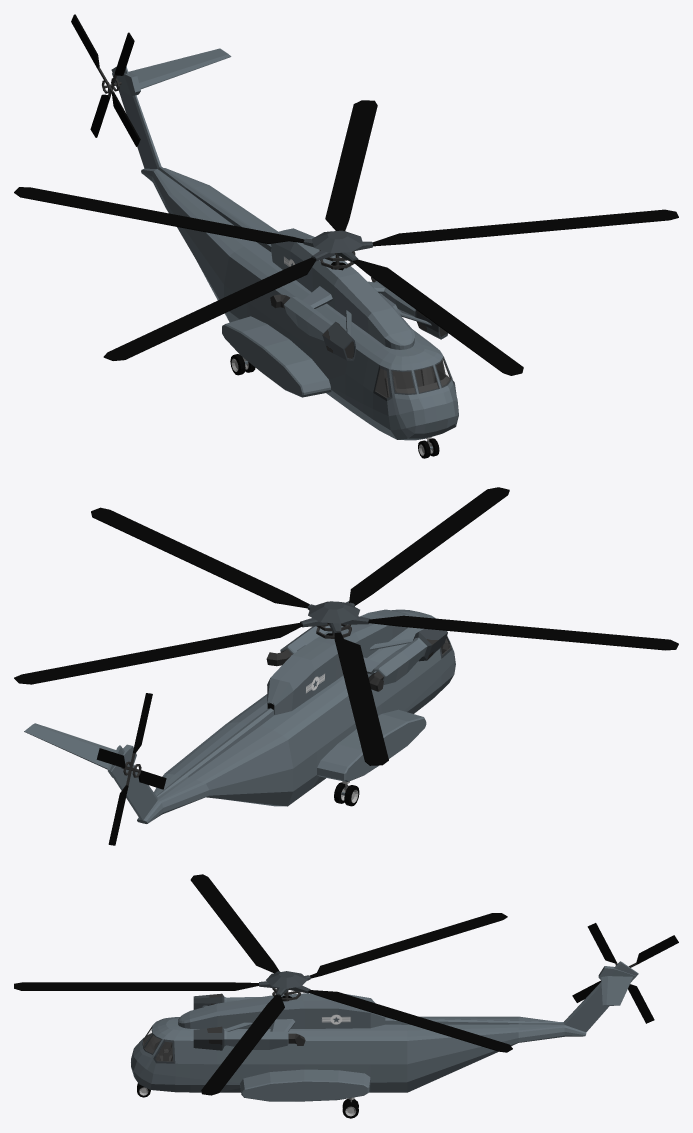
3 views of the same model, one above another, from view 1: azimuth 30°, elevation 25°; view 2: azimuth 150°, elevation 25°; view 3: azimuth 270°, elevation 25° (orthographic). The views are drawn at different scales.
Visible parts, largest first — view 1: Circle.016, Circle.018, Circle.019; view 2: Circle.016, Circle.018, Circle.019; view 3: Circle.016, Circle.018, Circle.019.
Part boxes in pixels (x1,y1,x2,y2): Circle.016: (111,48,458,440); Circle.018: (14,100,678,375); Circle.019: (71,14,140,146); Circle.016: (24,601,455,823); Circle.018: (14,487,678,765); Circle.019: (96,693,166,845); Circle.016: (131,961,638,1101); Circle.018: (14,874,512,1095); Circle.019: (572,923,678,1023).
Size of the model in its own units: 3027 by 1076 by 3857.
